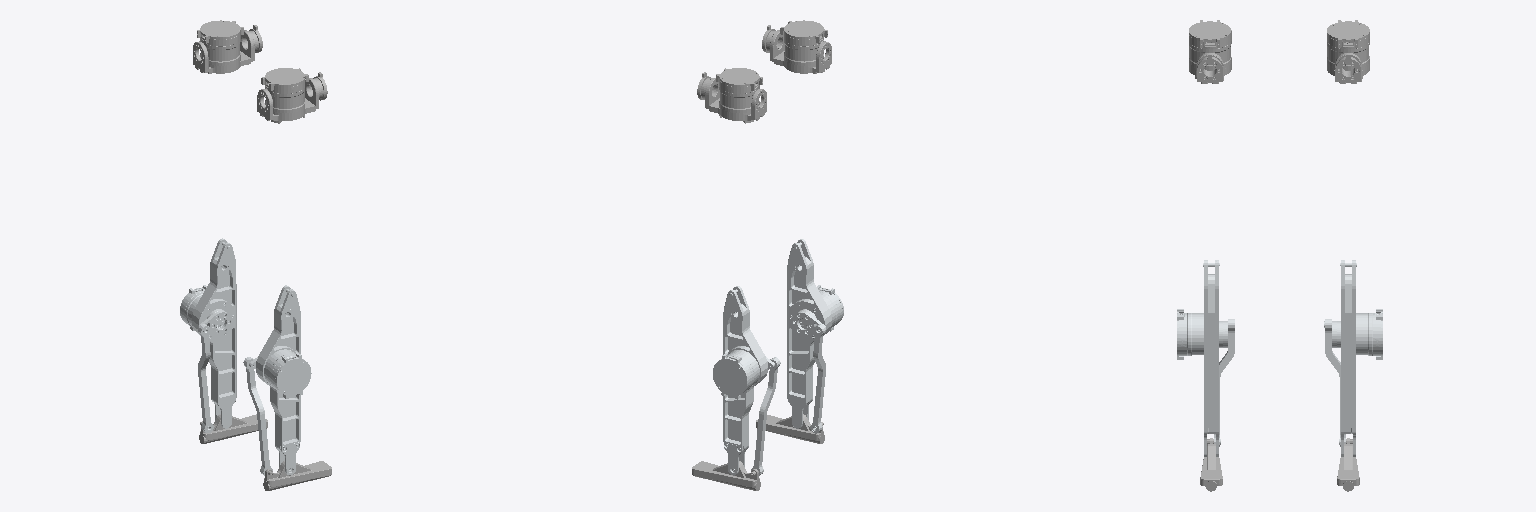
The robot description file, URDF, robot "Mvr_10dof":
<?xml version="1.0" encoding="utf-8"?>
<robot name="Mvr_10dof">
  
  <link name="base_link">
    <inertial>
      <origin xyz="-0.029937 7.6737E-05 0.090915" rpy="0 0 0" />
      <mass value="4.605827" />
      <inertia ixx="0.050868" ixy="3E-06" ixz="-0.007583" iyy="0.043318" iyz="-1.4E-05" izz="0.021945" />
    </inertial>
    <visual>
      <origin xyz="0 0 0" rpy="0 0 0" />
      <geometry>
        <mesh filename="../meshes/base_link.STL" />
      </geometry>
      <material name="">
        <color rgba="0.75294 0.75294 0.75294 1" />
      </material>
    </visual>
    <collision>
      <origin xyz="0 0 0.1" rpy="0 0 0" />
      <geometry>
        <box size="0.4 0.4 0.4"/>
      </geometry>
    </collision>
  </link>

  <link name="left_hip_roll_link">
    <inertial>
      <origin xyz="7.3267E-05 -0.0038883 0.003097" rpy="0 0 0" />
      <mass value="0.48218" />
      <inertia ixx="0.00033" ixy="0" ixz="0" iyy="0.0003" iyz="0" izz="0.000236" />
    </inertial>
    <visual>
      <origin xyz="0 0 0" rpy="0 0 0" />
      <geometry>
        <mesh filename="../meshes/left_hip_roll_link.STL" />
      </geometry>
      <material name=""><color rgba="0.75294 0.75294 0.75294 1" /></material>
    </visual>
  </link>

  <joint name="left_hip_roll_joint" type="revolute">
    <origin xyz="-0.002 0.09 -0.001" rpy="1.5708 0 1.5708" />
    <parent link="base_link" />
    <child link="left_hip_roll_link" />
    <axis xyz="0 0 1" />
    <limit lower="-0.0873" upper="0.5236" effort="36" velocity="85" />
  </joint>

  <link name="left_hip_yaw_link">
    <inertial>
      <origin xyz="0.045057 -0.00050589 0.087695" rpy="0 0 0" />
      <mass value="0.922933" />
      <inertia ixx="0.001639" ixy="4E-06" ixz="-9.9E-05" iyy="0.00123" iyz="0" izz="0.001089" />
    </inertial>
    <visual>
      <origin xyz="0 0 0" rpy="0 0 0" />
      <geometry>
        <mesh filename="../meshes/left_hip_yaw_link.STL" />
      </geometry>
      <material name=""><color rgba="0.75294 0.75294 0.75294 1" /></material>
    </visual>
  </link>

  <joint name="left_hip_yaw_joint" type="revolute">
    <origin xyz="0 0 0" rpy="1.5708 0 0" />
    <parent link="left_hip_roll_link" />
    <child link="left_hip_yaw_link" />
    <axis xyz="0 0 -1" />
    <limit lower="-0.1745" upper="0.1745" effort="36" velocity="85" />
  </joint>

  <link name="left_hip_pitch_link">
    <inertial>
      <origin xyz="0.0030099 0.028746 -0.023253" rpy="0 0 0" />
      <mass value="1.401511" />
      <inertia ixx="0.00726" ixy="-0.00043" ixz="-9.3E-05" iyy="0.001959" iyz="-0.000934" izz="0.007385" />
    </inertial>
    <visual>
      <origin xyz="0 0 0" rpy="0 0 0" />
      <geometry>
        <mesh filename="../meshes/left_hip_pitch_link.STL" />
      </geometry>
      <material name=""><color rgba="0.75294 0.75294 0.75294 1" /></material>
    </visual>
  </link>

  <joint name="left_hip_pitch_joint" type="revolute">
    <origin xyz="0 0 0.09" rpy="1.5708 0 1.5708" />
    <parent link="left_hip_yaw_link" />
    <child link="left_hip_pitch_link" />
    <axis xyz="0 0 -1" />
    <limit lower="0" upper="0.873" effort="94" velocity="150" />
  </joint>

  <link name="left_knee_link">
    <inertial>
      <origin xyz="-0.0088034 0.091473 0.0046446" rpy="0 0 0" />
      <mass value="0.656072" />
      <inertia ixx="0.00208" ixy="1.8E-05" ixz="-1.1E-05" iyy="0.000356" iyz="6.9E-05" izz="0.002091" />
    </inertial>
    <visual>
      <origin xyz="0 0 0" rpy="0 0 0" />
      <geometry>
        <mesh filename="../meshes/left_knee_link.STL" />
      </geometry>
      <material name=""><color rgba="0.89804 0.91765 0.92941 1" /></material>
    </visual>
  </link>

  <joint name="left_knee_joint" type="revolute">
    <origin xyz="0 0.24 0" rpy="0 0 0" />
    <parent link="left_hip_pitch_link" />
    <child link="left_knee_link" />
    <axis xyz="0 0 -1" />
    <limit lower="-2.62" upper="0" effort="36" velocity="85" />
  </joint>

  <link name="left_ankle_pitch_link">
    <inertial>
      <origin xyz="0.01623 0.013653 1.0191E-10" rpy="0 0 0" />
      <mass value="0.072912" />
      <inertia ixx="6E-06" ixy="-3E-06" ixz="0" iyy="5.9E-05" iyz="0" izz="5.9E-05" />
    </inertial>
    <visual>
      <origin xyz="0 0 0" rpy="0 0 0" />
      <geometry>
        <mesh filename="../meshes/left_ankle_pitch_link.STL" />
      </geometry>
      <material name=""><color rgba="0.75294 0.75294 0.75294 1" /></material>
    </visual>
    
    <collision>
      <origin xyz="0.06 0.02 -0.02" rpy="0 0 0" />
      <geometry><sphere radius="0.008"/></geometry>
    </collision>
    <collision>
      <origin xyz="0.06 0.02 0.02" rpy="0 0 0" />
      <geometry><sphere radius="0.008"/></geometry>
    </collision>
    <collision>
      <origin xyz="-0.04 0.02 -0.02" rpy="0 0 0" />
      <geometry><sphere radius="0.008"/></geometry>
    </collision>
    <collision>
      <origin xyz="-0.04 0.02 0.02" rpy="0 0 0" />
      <geometry><sphere radius="0.008"/></geometry>
    </collision>
  </link>

  <joint name="left_ankle_pitch_joint" type="revolute">
    <origin xyz="0.005 0.23995 0" rpy="0 0 0" />
    <parent link="left_knee_link" />
    <child link="left_ankle_pitch_link" />
    <axis xyz="0 0 -1" />
    <limit lower="-0.7854" upper="0.7854" effort="36" velocity="85" />
  </joint>

  <link name="right_hip_roll_link">
    <inertial>
      <origin xyz="-7.3267E-05 -0.0038883 0.0033035" rpy="0 0 0" />
      <mass value="0.48218" />
      <inertia ixx="0.000329" ixy="0" ixz="0" iyy="0.000299" iyz="-2E-06" izz="0.000236" />
    </inertial>
    <visual>
      <origin xyz="0 0 0" rpy="0 0 0" />
      <geometry>
        <mesh filename="../meshes/right_hip_roll_link.STL" />
      </geometry>
      <material name=""><color rgba="0.75294 0.75294 0.75294 1" /></material>
    </visual>
  </link>

  <joint name="right_hip_roll_joint" type="revolute">
    <origin xyz="-0.002 -0.09 -0.001" rpy="1.5708 0 1.5708" />
    <parent link="base_link" />
    <child link="right_hip_roll_link" />
    <axis xyz="0 0 1" />
    <limit lower="-0.524" upper="0.0873" effort="36" velocity="85" />
  </joint>

  <link name="right_hip_yaw_link">
    <inertial>
      <origin xyz="-0.045057 -0.00014884 0.087695" rpy="0 0 0" />
      <mass value="0.922933" />
      <inertia ixx="0.001639" ixy="4E-06" ixz="9.9E-05" iyy="0.00123" iyz="0" izz="0.001089" />
    </inertial>
    <visual>
      <origin xyz="0 0 0" rpy="0 0 0" />
      <geometry>
        <mesh filename="../meshes/right_hip_yaw_link.STL" />
      </geometry>
      <material name=""><color rgba="0.75294 0.75294 0.75294 1" /></material>
    </visual>
  </link>

  <joint name="right_hip_yaw_joint" type="revolute">
    <origin xyz="0 0 0" rpy="1.5708 0 0" />
    <parent link="right_hip_roll_link" />
    <child link="right_hip_yaw_link" />
    <axis xyz="0 0 -1" />
    <limit lower="-0.174" upper="0.174" effort="36" velocity="85" />
  </joint>

  <link name="right_hip_pitch_link">
    <inertial>
      <origin xyz="-0.0033304 0.032142 0.025848" rpy="0 0 0" />
      <mass value="1.424298" />
      <inertia ixx="0.007508" ixy="-0.000445" ixz="0.000103" iyy="0.001985" iyz="0.000972" izz="0.007634" />
    </inertial>
    <visual>
      <origin xyz="0 0 0" rpy="0 0 0" />
      <geometry>
        <mesh filename="../meshes/right_hip_pitch_link.STL" />
      </geometry>
      <material name=""><color rgba="0.89804 0.91765 0.92941 1" /></material>
    </visual>
  </link>

  <joint name="right_hip_pitch_joint" type="revolute">
    <origin xyz="-0.002 0.0071592 0.090867" rpy="1.5708 0 1.5708" />
    <parent link="right_hip_yaw_link" />
    <child link="right_hip_pitch_link" />
    <axis xyz="0 0 1" />
    <limit lower="-0.873" upper="0" effort="94" velocity="150" />
  </joint>

  <link name="right_knee_link">
    <inertial>
      <origin xyz="-0.0088065 0.091327 -0.0044102" rpy="0 0 0" />
      <mass value="0.656072" />
      <inertia ixx="0.002082" ixy="1.7E-05" ixz="1.1E-05" iyy="0.000356" iyz="-7.1E-05" izz="0.002094" />
    </inertial>
    <visual>
      <origin xyz="0 0 0" rpy="0 0 0" />
      <geometry>
        <mesh filename="../meshes/right_knee_link.STL" />
      </geometry>
      <material name=""><color rgba="0.89804 0.91765 0.92941 1" /></material>
    </visual>
  </link>

  <joint name="right_knee_joint" type="revolute">
    <origin xyz="-0.0071592 0.23913 0.00375" rpy="0 0 0" />
    <parent link="right_hip_pitch_link" />
    <child link="right_knee_link" />
    <axis xyz="0 0 1" />
    <limit lower="0" upper="2.62" effort="94" velocity="150" />
  </joint>

  <link name="right_ankle_pitch_link">
    <inertial>
      <origin xyz="0.01623 0.013653 4.8944E-05" rpy="0 0 0" />
      <mass value="0.072912" />
      <inertia ixx="6E-06" ixy="-3E-06" ixz="0" iyy="5.9E-05" iyz="0" izz="5.9E-05" />
    </inertial>
    <visual>
      <origin xyz="0 0 0" rpy="0 0 0" />
      <geometry>
        <mesh filename="../meshes/right_ankle_pitch_link.STL" />
      </geometry>
      <material name=""><color rgba="0.75294 0.75294 0.75294 1" /></material>
    </visual>
    
    <collision>
      <origin xyz="0.06 0.02 -0.02" rpy="0 0 0" />
      <geometry><sphere radius="0.008"/></geometry>
    </collision>
    <collision>
      <origin xyz="0.06 0.02 0.02" rpy="0 0 0" />
      <geometry><sphere radius="0.008"/></geometry>
    </collision>
    <collision>
      <origin xyz="-0.04 0.02 -0.02" rpy="0 0 0" />
      <geometry><sphere radius="0.008"/></geometry>
    </collision>
    <collision>
      <origin xyz="-0.04 0.02 0.02" rpy="0 0 0" />
      <geometry><sphere radius="0.008"/></geometry>
    </collision>
  </link>

  <joint name="right_ankle_pitch_joint" type="revolute">
    <origin xyz="0.005 0.23995 5E-05" rpy="0 0 0" />
    <parent link="right_knee_link" />
    <child link="right_ankle_pitch_link" />
    <axis xyz="0 0 -1" />
    <limit lower="-0.7854" upper="0.7854" effort="36" velocity="85" />
  </joint>

</robot>

--- Facts derived from the render (not from the file) ---
Views: 3 orthographic renders of the robot side by side, from view 1: azimuth 30°, elevation 25°; view 2: azimuth 150°, elevation 25°; view 3: azimuth 270°, elevation 25°.
Model Mvr_10dof with 11 links and 10 joints (10 revolute), rooted at base_link, posed all joints at 0.
Links seen in each view (by area): view 1: right_knee_link, left_knee_link, right_hip_roll_link, left_hip_roll_link, right_ankle_pitch_link, left_ankle_pitch_link; view 2: right_knee_link, left_knee_link, left_hip_roll_link, right_hip_roll_link, left_ankle_pitch_link, right_ankle_pitch_link; view 3: left_knee_link, right_knee_link, left_hip_roll_link, right_hip_roll_link, left_ankle_pitch_link, right_ankle_pitch_link.
Link boxes in pixels (bbox=[...]): right_knee_link: bbox=[243, 285, 311, 475]; left_knee_link: bbox=[180, 238, 236, 432]; right_hip_roll_link: bbox=[257, 68, 327, 123]; left_hip_roll_link: bbox=[193, 20, 262, 73]; right_ankle_pitch_link: bbox=[263, 461, 331, 490]; left_ankle_pitch_link: bbox=[199, 414, 267, 443]; right_knee_link: bbox=[787, 239, 843, 433]; left_knee_link: bbox=[713, 286, 780, 475]; left_hip_roll_link: bbox=[697, 68, 766, 123]; right_hip_roll_link: bbox=[762, 20, 831, 73]; left_ankle_pitch_link: bbox=[692, 461, 760, 490]; right_ankle_pitch_link: bbox=[756, 414, 824, 443]; left_knee_link: bbox=[1324, 260, 1382, 456]; right_knee_link: bbox=[1177, 260, 1234, 456]; left_hip_roll_link: bbox=[1327, 20, 1369, 83]; right_hip_roll_link: bbox=[1189, 20, 1231, 83]; left_ankle_pitch_link: bbox=[1337, 438, 1359, 491]; right_ankle_pitch_link: bbox=[1200, 438, 1222, 491].
Size in the robot's own frame: 0.1184 by 0.269 by 0.6293 metres.
6 mesh visuals loaded from 11 distinct referenced files (6 binary STL); not drawn: 5 (reference not matched to a file when rendering).
